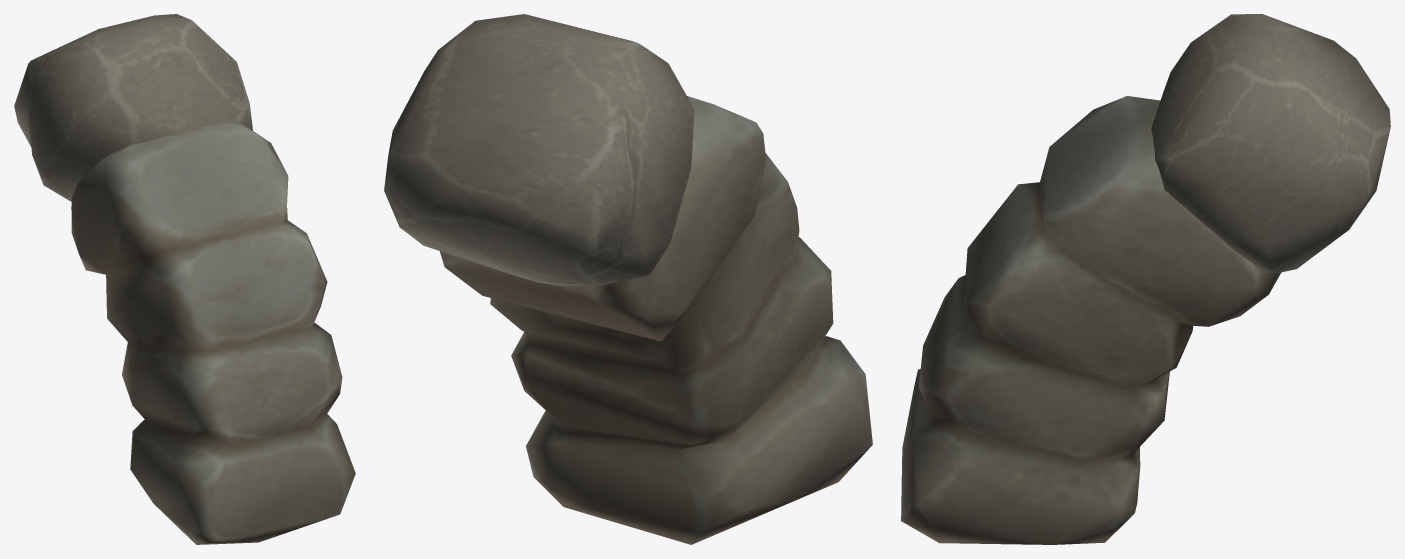
File: SM_FW01_Ruins_Int_Ceiling_4x4_Arch_03.fbx
3 renders of one model, left to right at view 1: azimuth 30°, elevation 25°; view 2: azimuth 150°, elevation 25°; view 3: azimuth 270°, elevation 25°, orthographic. The views are drawn at different scales.
Visible parts, largest first — view 1: SM_FW01_Ruins_Int_Ceiling_4x4_Arch_03_LOD0; view 2: SM_FW01_Ruins_Int_Ceiling_4x4_Arch_03_LOD0; view 3: SM_FW01_Ruins_Int_Ceiling_4x4_Arch_03_LOD0.
Part boxes in pixels (x1,y1,x2,y2): SM_FW01_Ruins_Int_Ceiling_4x4_Arch_03_LOD0: (14,14,355,544); SM_FW01_Ruins_Int_Ceiling_4x4_Arch_03_LOD0: (384,14,872,544); SM_FW01_Ruins_Int_Ceiling_4x4_Arch_03_LOD0: (901,14,1390,544).
Size of what is drawn, in the model's own units: 0.6953 by 1.47 by 1.38.
